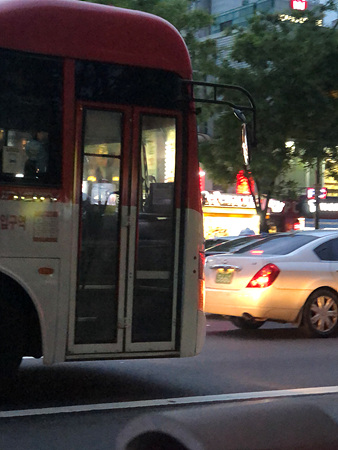entrance: (72, 102, 180, 348)
